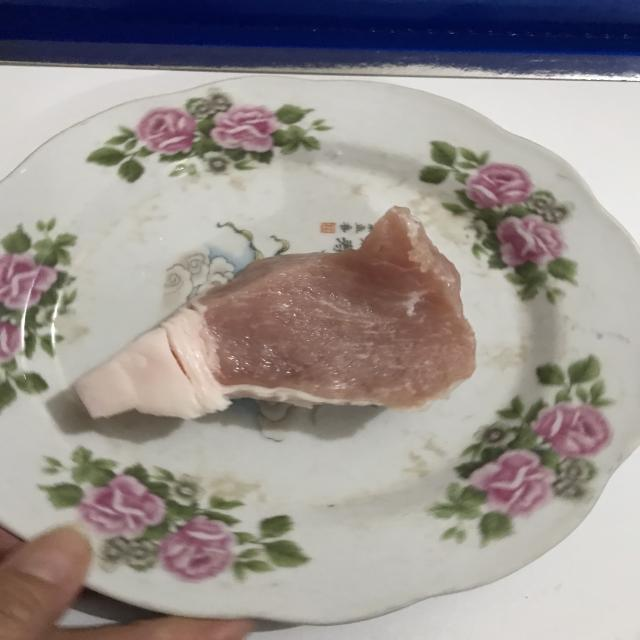chicken: (76, 201, 481, 416)
